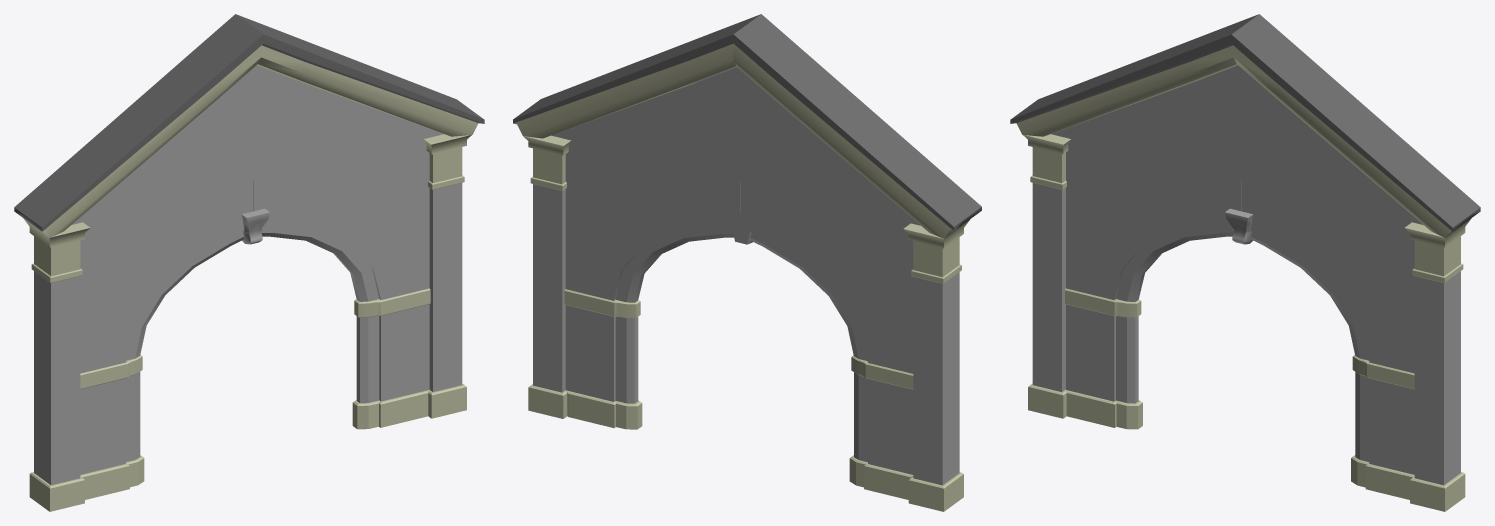
File: ArchWayLarge.fbx
3 views of the same model, side by side, from view 1: azimuth 30°, elevation 25°; view 2: azimuth 150°, elevation 25°; view 3: azimuth 330°, elevation 25° (orthographic).
Visible parts, largest first — view 1: pCube10, pCube5, pCube4, pCube11, pCube1, pCube9; view 2: pCube10, pCube5, pCube4, pCube11, pCube1, pCube9; view 3: pCube4, pCube11, pCube10, pCube5, pCube9, pCube1.
Part boxes in pixels (left/top/right/bottom): pCube10: left=253, top=139, right=430, bottom=429; pCube5: left=14, top=14, right=263, bottom=237; pCube4: left=80, top=181, right=253, bottom=499; pCube11: left=236, top=14, right=484, bottom=180; pCube1: left=25, top=220, right=90, bottom=511; pCube9: left=424, top=134, right=471, bottom=418; pCube10: left=564, top=140, right=740, bottom=429; pCube5: left=733, top=14, right=981, bottom=238; pCube4: left=741, top=182, right=913, bottom=499; pCube11: left=513, top=14, right=760, bottom=181; pCube1: left=903, top=220, right=969, bottom=511; pCube9: left=523, top=135, right=571, bottom=418; pCube4: left=1065, top=139, right=1241, bottom=429; pCube11: left=1231, top=14, right=1480, bottom=237; pCube10: left=1242, top=181, right=1414, bottom=499; pCube5: left=1010, top=14, right=1258, bottom=180; pCube9: left=1404, top=220, right=1469, bottom=511; pCube1: left=1023, top=134, right=1070, bottom=418.
Size of the model in its own units: 753 by 700 by 82.5.
